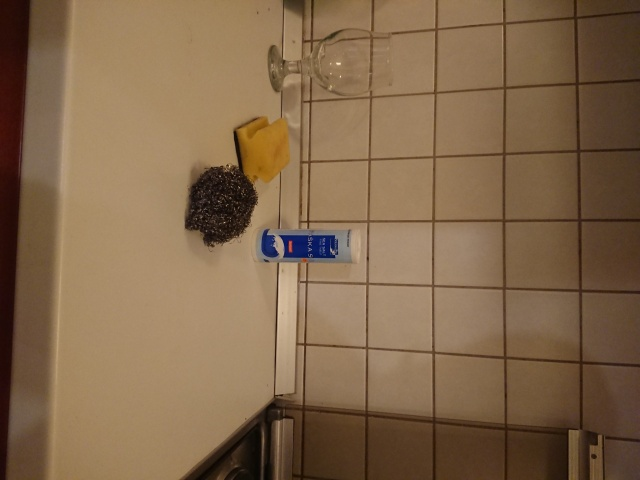Solana Pag Fine Sea Salt 250g: (253, 226, 365, 266)
